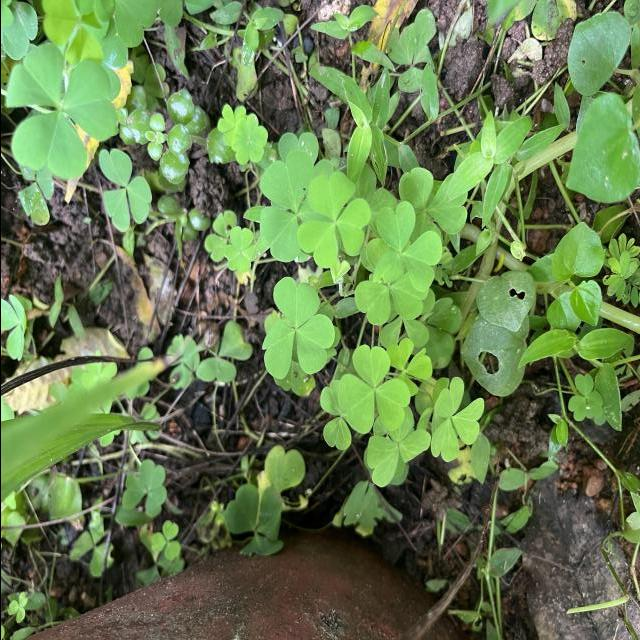Oxalis corniculata: (3, 42, 119, 180), (260, 276, 334, 381), (296, 170, 372, 270), (336, 344, 410, 436), (371, 200, 442, 294), (428, 376, 484, 464), (97, 146, 152, 234), (120, 458, 166, 517), (230, 113, 268, 166), (566, 373, 602, 422), (223, 226, 253, 273), (150, 519, 180, 560)
